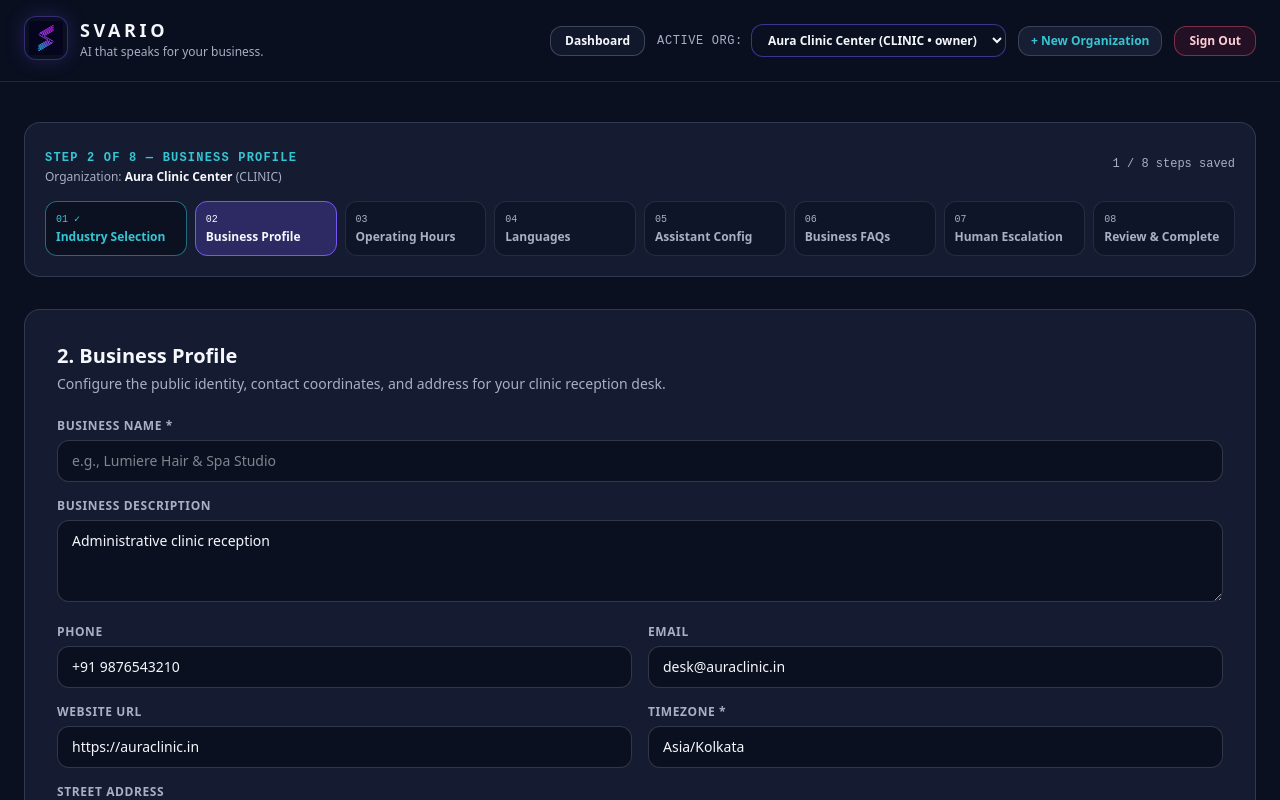
it: SVARIO Stage 2 — Onboarding Wizard & Dashboard Integration › validates business profile required display_name before calling backend API
In the field labelled "Business Name *": point(640, 461) [57,440,1223,482], type "A"
(page scrolled)
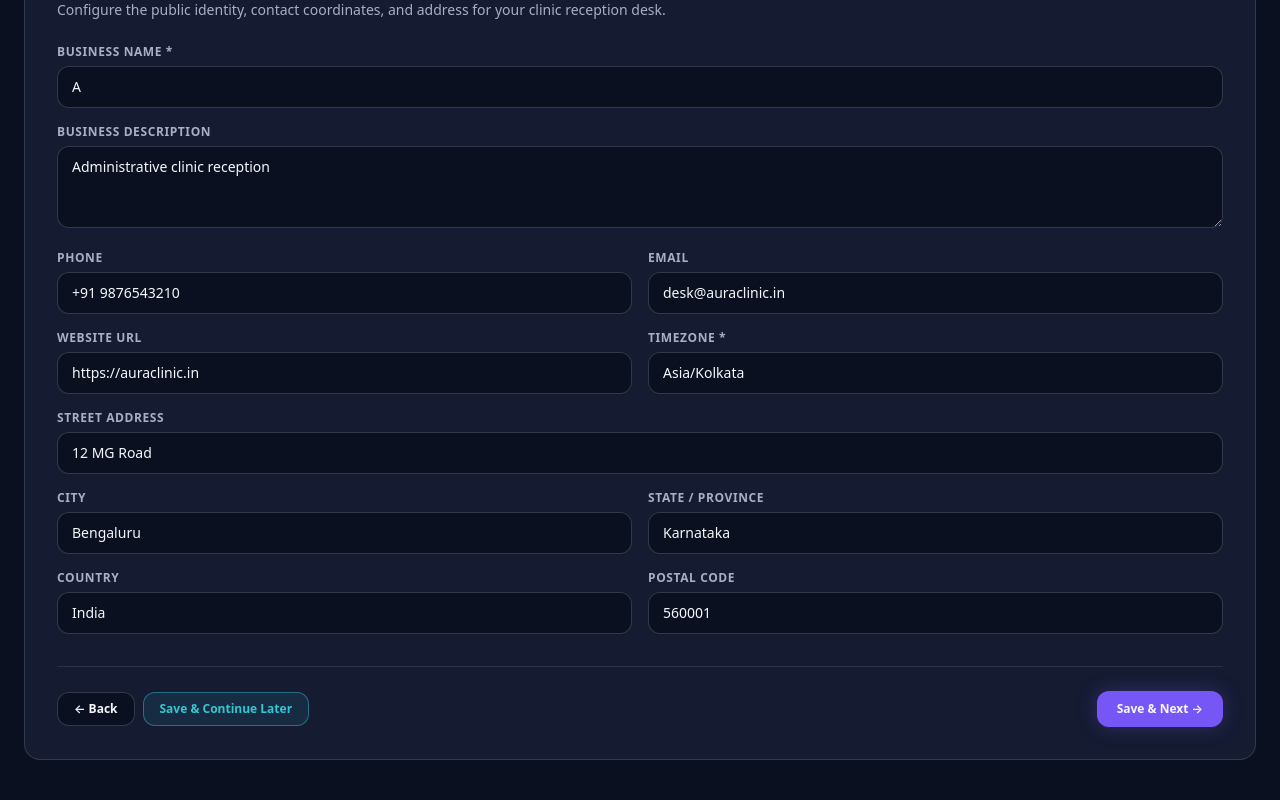
Click the button "Save & Next →": point(1160, 709) [1097,691,1223,727]
(page scrolled)
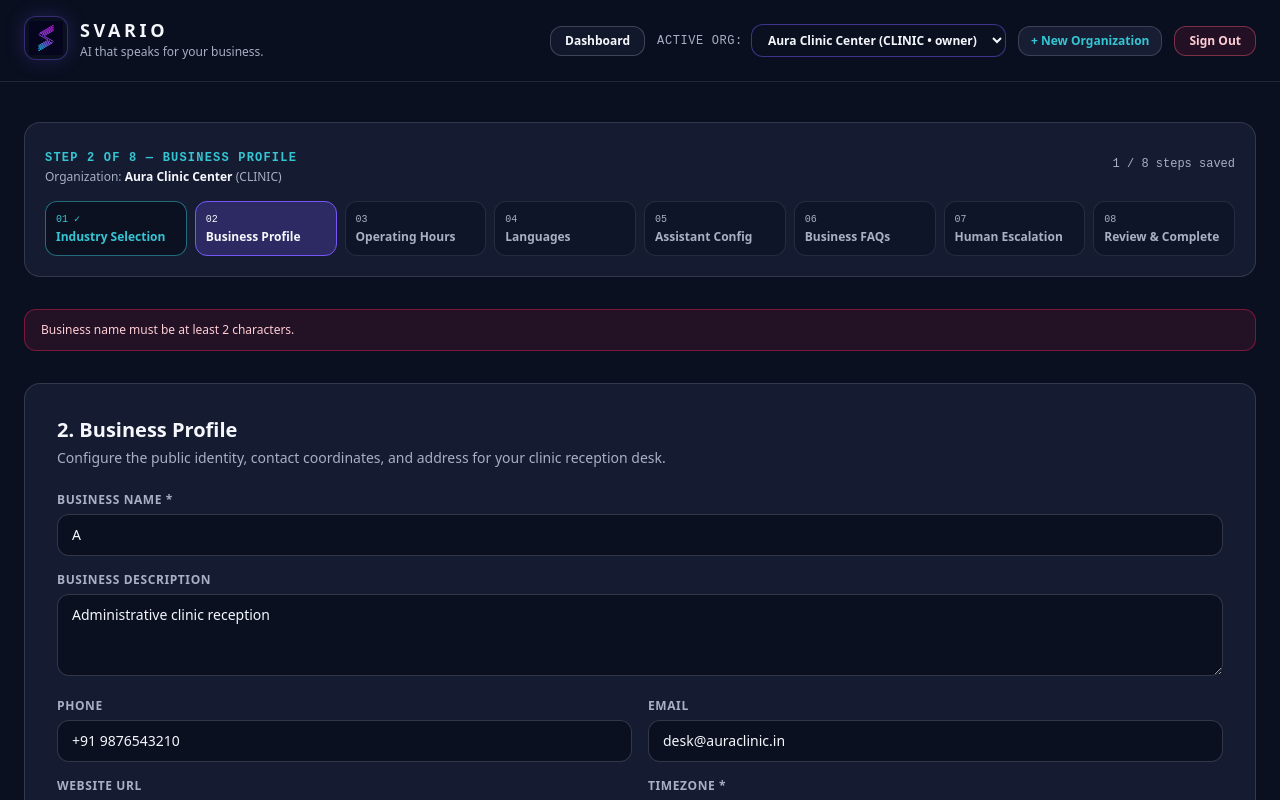
Result: the text "Business name must be at least 2 characters." is shown at [24,309,1256,351]
